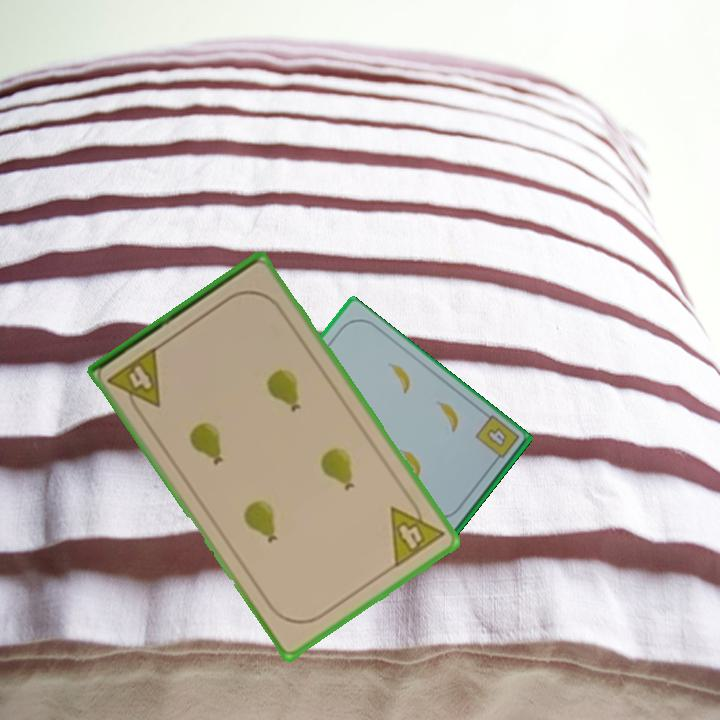4b: (471, 412, 522, 468)
4p: (386, 492, 448, 571), (104, 343, 165, 420)
